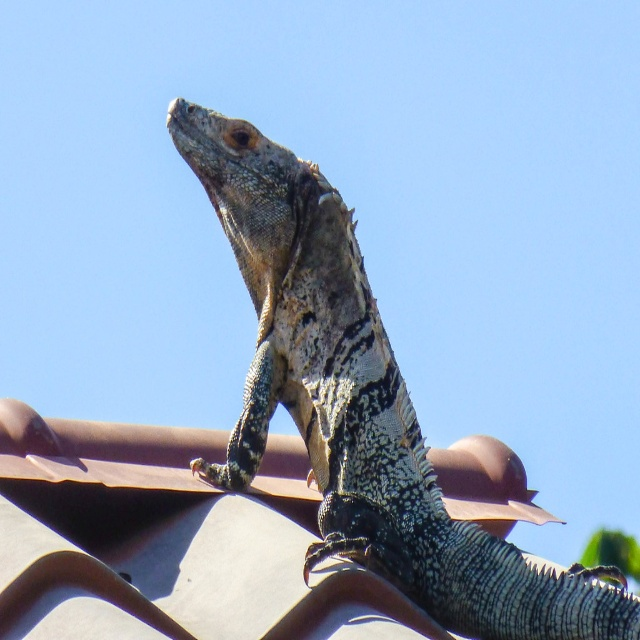Lizard: (169, 102, 638, 636)
